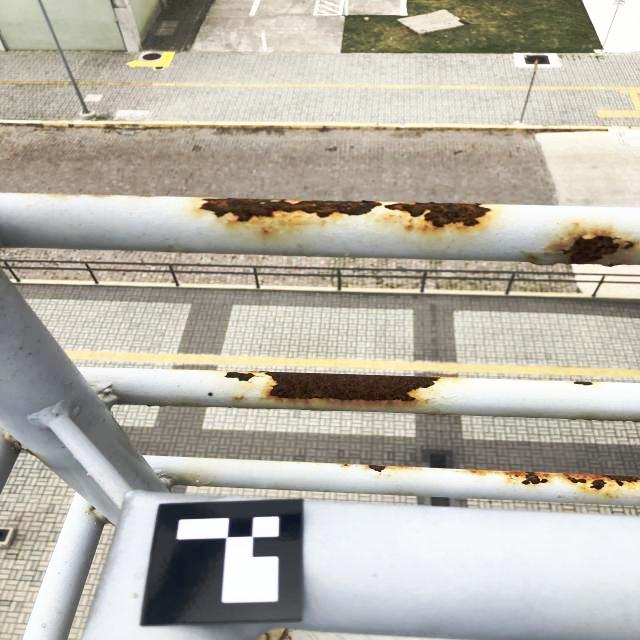Corrosion: (200, 198, 491, 227), (263, 372, 440, 403), (455, 469, 640, 494), (564, 235, 622, 264), (243, 211, 303, 235), (559, 226, 609, 248), (385, 212, 432, 232), (362, 465, 417, 473), (224, 372, 261, 382), (622, 238, 633, 250), (576, 382, 595, 386), (339, 464, 354, 468)
